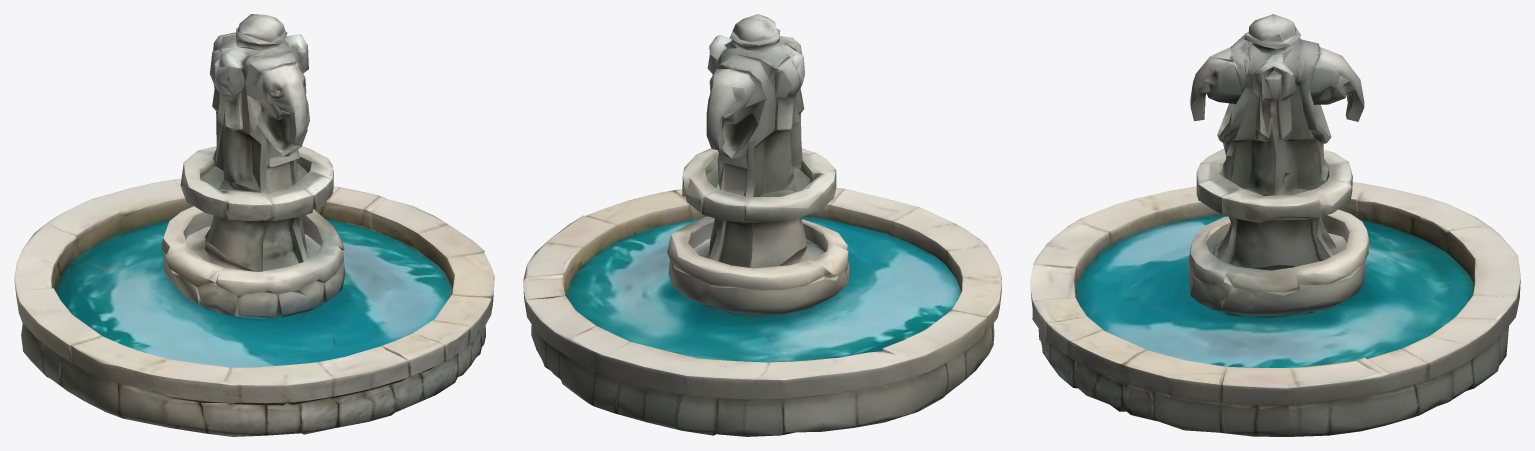
File: zooFountain.glb
The picture shows the model from 3 angles, left to right: view 1: azimuth 30°, elevation 25°; view 2: azimuth 150°, elevation 25°; view 3: azimuth 270°, elevation 25°; orthographic projection.
Parts seen in each view (by area): view 1: model; view 2: model; view 3: model.
Part boxes in pixels (x1,y1,x2,y2): model: (14, 14, 494, 436); model: (523, 14, 1001, 436); model: (1030, 14, 1520, 436).
Size of the model in its own units: 1.88 by 1.4 by 1.89.
1 material, 1 textured.
